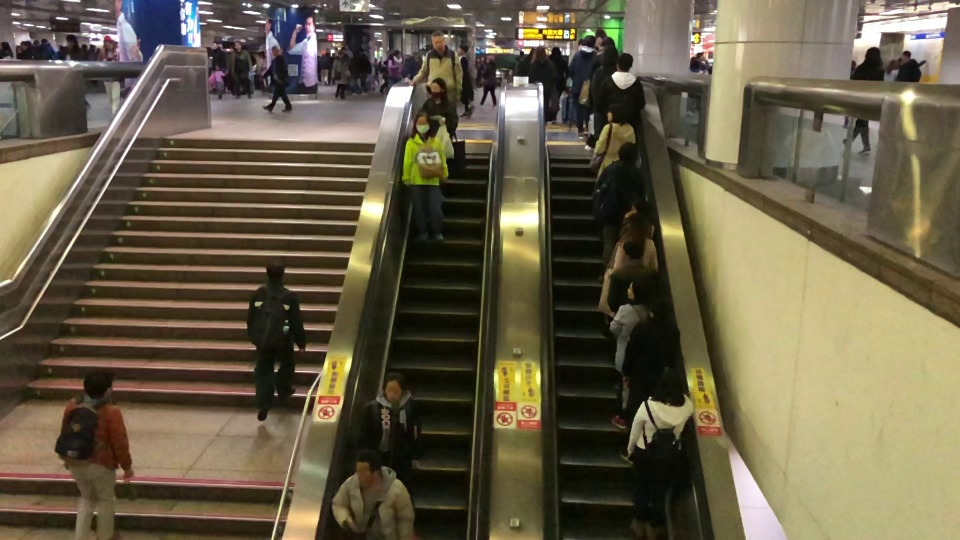person_head: (354, 447, 382, 488), (654, 366, 683, 402), (82, 371, 116, 401), (382, 372, 406, 403), (646, 296, 670, 322), (626, 277, 650, 303), (605, 102, 631, 124), (628, 213, 648, 239), (264, 261, 286, 282), (617, 141, 638, 163), (413, 110, 431, 134), (600, 47, 619, 69), (429, 77, 447, 100), (615, 52, 634, 72), (863, 47, 882, 67), (431, 30, 446, 51), (630, 199, 649, 215), (531, 46, 547, 61), (600, 36, 616, 51), (582, 33, 595, 49), (102, 35, 114, 50), (66, 34, 78, 47), (271, 45, 283, 57), (900, 50, 912, 62), (550, 47, 561, 59), (458, 43, 468, 55), (19, 41, 30, 51), (689, 56, 699, 67), (888, 58, 898, 69), (0, 41, 10, 51), (391, 50, 401, 60), (233, 40, 242, 51), (485, 54, 496, 63), (32, 39, 40, 48), (88, 44, 96, 53), (210, 41, 218, 50), (529, 47, 535, 59), (696, 52, 704, 61), (41, 38, 48, 47), (214, 63, 221, 71), (337, 51, 344, 59), (850, 60, 856, 69), (81, 43, 87, 51), (353, 51, 359, 58), (340, 47, 346, 54), (518, 50, 524, 57), (359, 47, 364, 55), (58, 45, 64, 51), (320, 50, 326, 56), (326, 47, 331, 54)
person_vbox: (623, 366, 694, 540), (60, 371, 133, 540), (619, 295, 681, 465), (245, 261, 307, 422), (330, 447, 415, 540), (593, 141, 646, 284), (358, 372, 422, 483), (607, 277, 653, 430), (401, 110, 450, 244), (842, 47, 885, 153), (407, 30, 463, 106), (594, 52, 646, 128), (584, 47, 619, 150), (592, 102, 635, 183), (608, 213, 661, 276), (567, 33, 598, 138), (525, 46, 557, 125), (420, 77, 458, 139), (262, 44, 292, 113), (61, 34, 89, 107), (100, 35, 121, 116), (618, 198, 653, 239), (230, 40, 253, 99), (458, 43, 475, 118), (588, 35, 616, 80), (548, 46, 570, 101), (477, 54, 497, 108), (842, 61, 856, 128), (331, 51, 350, 100), (686, 56, 701, 114), (210, 41, 226, 94), (895, 50, 921, 81), (387, 50, 403, 90), (213, 63, 229, 100), (359, 47, 369, 95), (518, 48, 535, 76), (35, 38, 56, 59), (87, 44, 97, 86), (350, 51, 359, 96), (883, 58, 899, 81), (378, 59, 388, 94), (16, 41, 34, 60), (317, 50, 328, 81), (513, 50, 525, 75), (696, 52, 709, 73), (0, 41, 14, 60), (326, 47, 333, 85), (55, 45, 65, 59)
